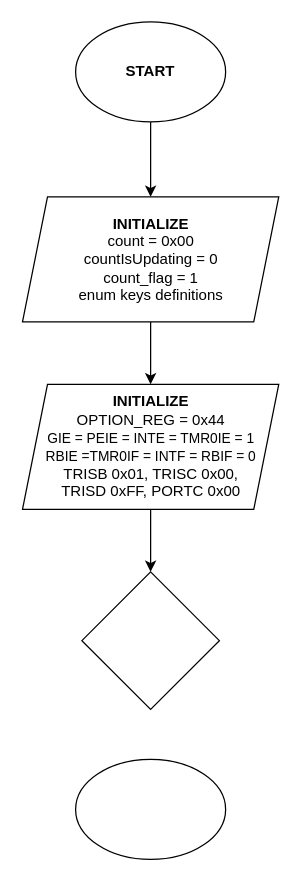
Some shapes in this 300 by 881 pixel diagram are drawn without their labels. The centre of each missing label's shape, as x and y in pixels:
END: the point at 150,808
IF (1): the point at 150,640
